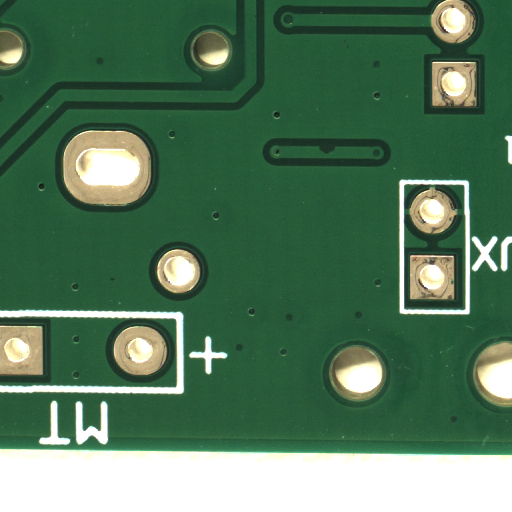Mouse_bite: (328, 149, 343, 160)
